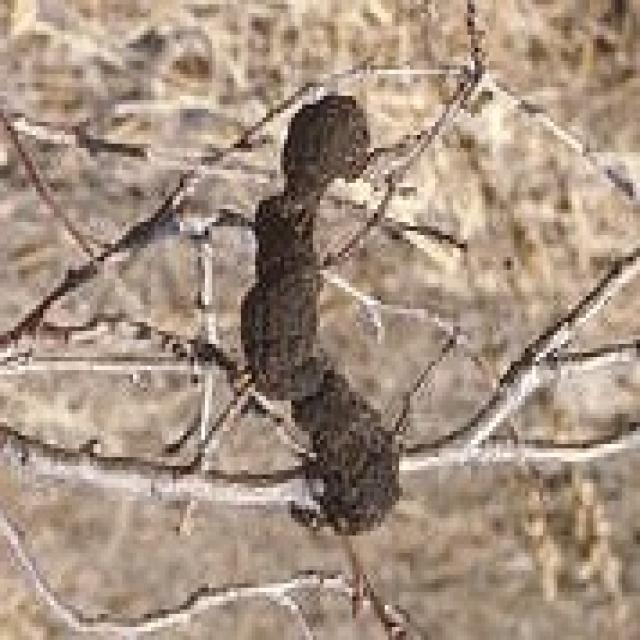Black_knot: (230, 87, 406, 536)
